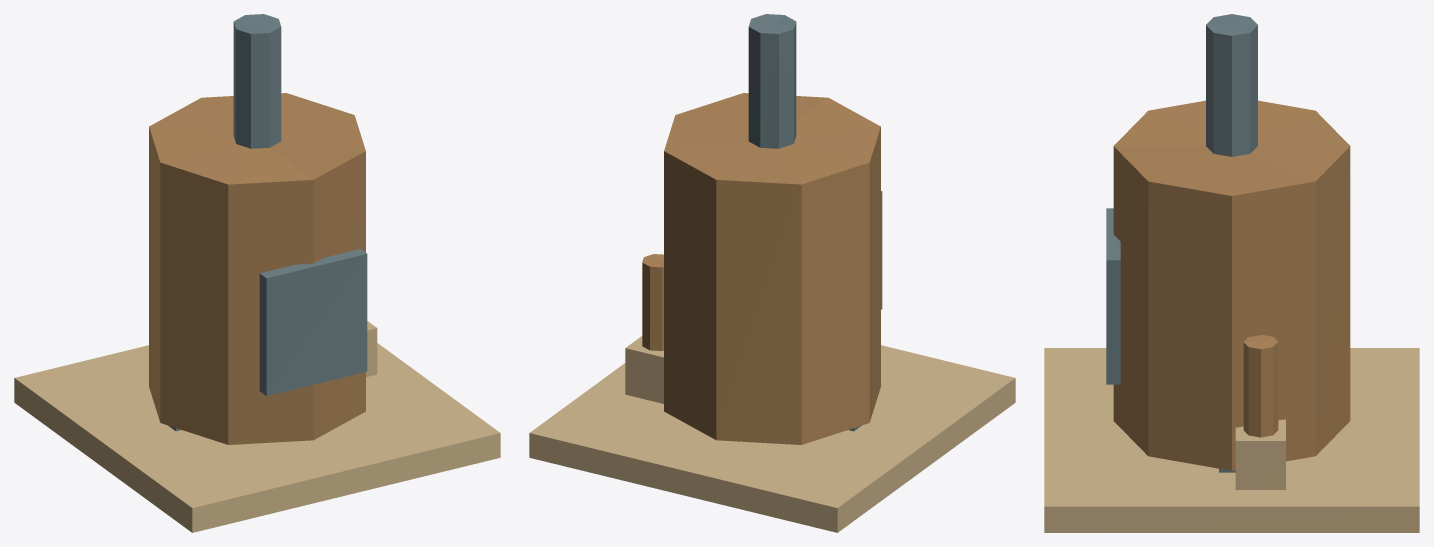
File: Biochar-Kiln.glb
3 renders of one model, left to right at view 1: azimuth 30°, elevation 25°; view 2: azimuth 150°, elevation 25°; view 3: azimuth 270°, elevation 25°, orthographic. The views are drawn at different scales.
Parts seen in each view (by area): view 1: biochar-kiln-static-kiln-teal, biochar-kiln-static-kiln-stone, biochar-kiln-static-kiln-iron, biochar-kiln-static-kiln-cream; view 2: biochar-kiln-static-kiln-teal, biochar-kiln-static-kiln-stone, biochar-kiln-static-kiln-iron, biochar-kiln-static-kiln-galv, biochar-kiln-static-kiln-cream; view 3: biochar-kiln-static-kiln-teal, biochar-kiln-static-kiln-stone, biochar-kiln-static-kiln-iron, biochar-kiln-static-kiln-galv, biochar-kiln-static-kiln-cream.
Part boxes in pixels (left/top/right/bottom): biochar-kiln-static-kiln-teal: left=149, top=93, right=365, bottom=444; biochar-kiln-static-kiln-stone: left=14, top=343, right=500, bottom=532; biochar-kiln-static-kiln-iron: left=168, top=14, right=367, bottom=431; biochar-kiln-static-kiln-cream: left=366, top=321, right=377, bottom=377; biochar-kiln-static-kiln-teal: left=664, top=93, right=880, bottom=444; biochar-kiln-static-kiln-stone: left=529, top=345, right=1015, bottom=532; biochar-kiln-static-kiln-iron: left=748, top=14, right=882, bottom=431; biochar-kiln-static-kiln-galv: left=642, top=254, right=663, bottom=350; biochar-kiln-static-kiln-cream: left=625, top=336, right=663, bottom=403; biochar-kiln-static-kiln-teal: left=1113, top=100, right=1350, bottom=470; biochar-kiln-static-kiln-stone: left=1044, top=348, right=1419, bottom=532; biochar-kiln-static-kiln-iron: left=1106, top=14, right=1257, bottom=472; biochar-kiln-static-kiln-galv: left=1243, top=335, right=1278, bottom=437; biochar-kiln-static-kiln-cream: left=1235, top=419, right=1285, bottom=489.
Size of the model in its own units: 2.6 by 3.28 by 2.6.
